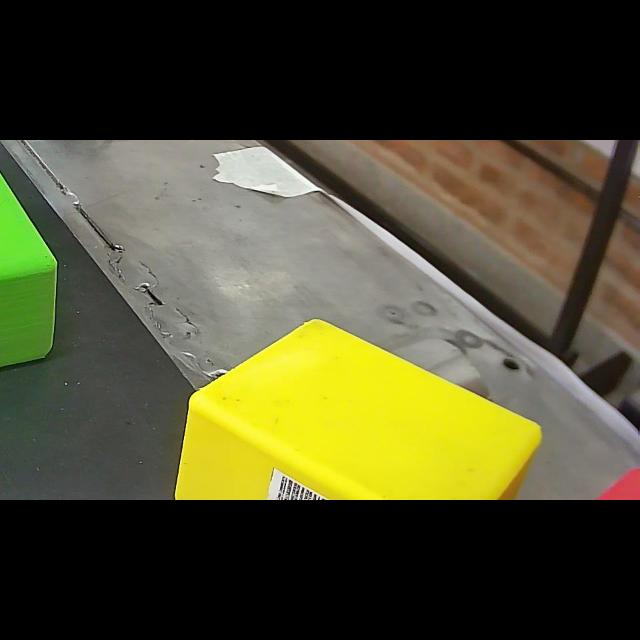greenBox: (0, 143, 66, 395)
yellowBox: (165, 308, 550, 500)
